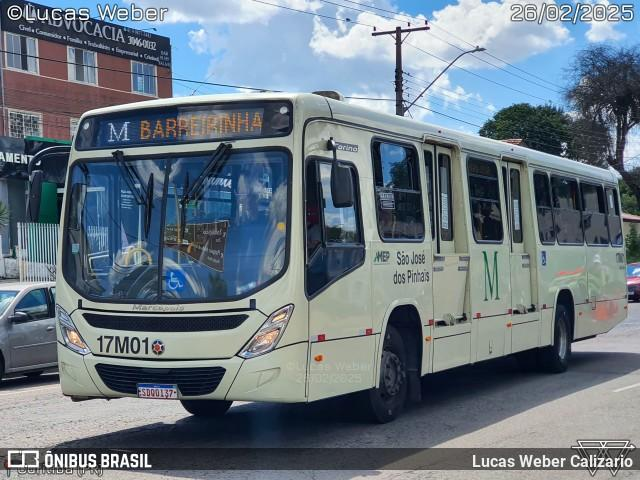BARREIRINHA: (136, 108, 267, 143)
